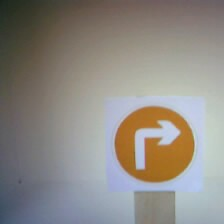right: (111, 95, 201, 191)
